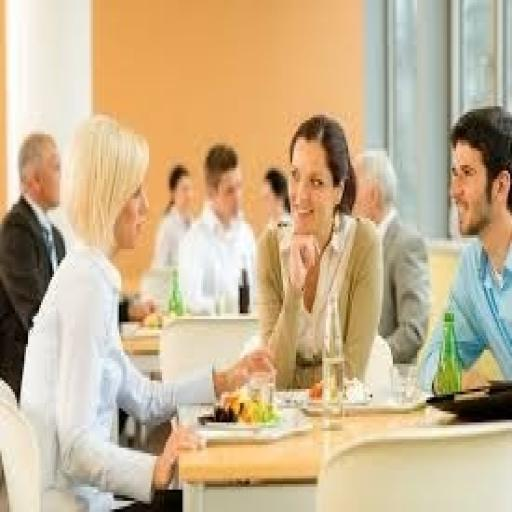eating: (16, 109, 276, 509), (248, 112, 386, 394), (413, 104, 510, 398)
